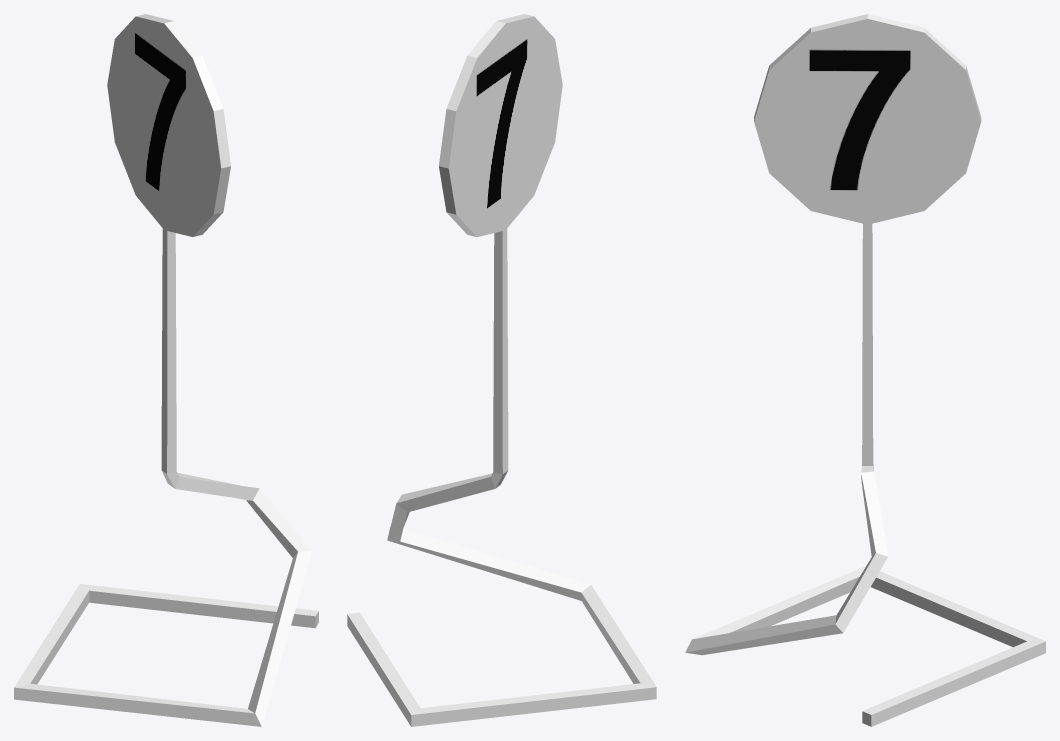
File: Marker_7.FBX
The picture shows the model from 3 angles, left to right: view 1: azimuth 30°, elevation 25°; view 2: azimuth 150°, elevation 25°; view 3: azimuth 270°, elevation 25°; orthographic projection.
Visible parts, largest first — view 1: Marker_7; view 2: Marker_7; view 3: Marker_7.
Boxes of the visible parts, x1,y1,x2,y2 form: Marker_7: (14,14,318,726); Marker_7: (347,14,656,726); Marker_7: (685,14,1045,726).
Size of the model in its own units: 4.03 by 8.02 by 4.11.
